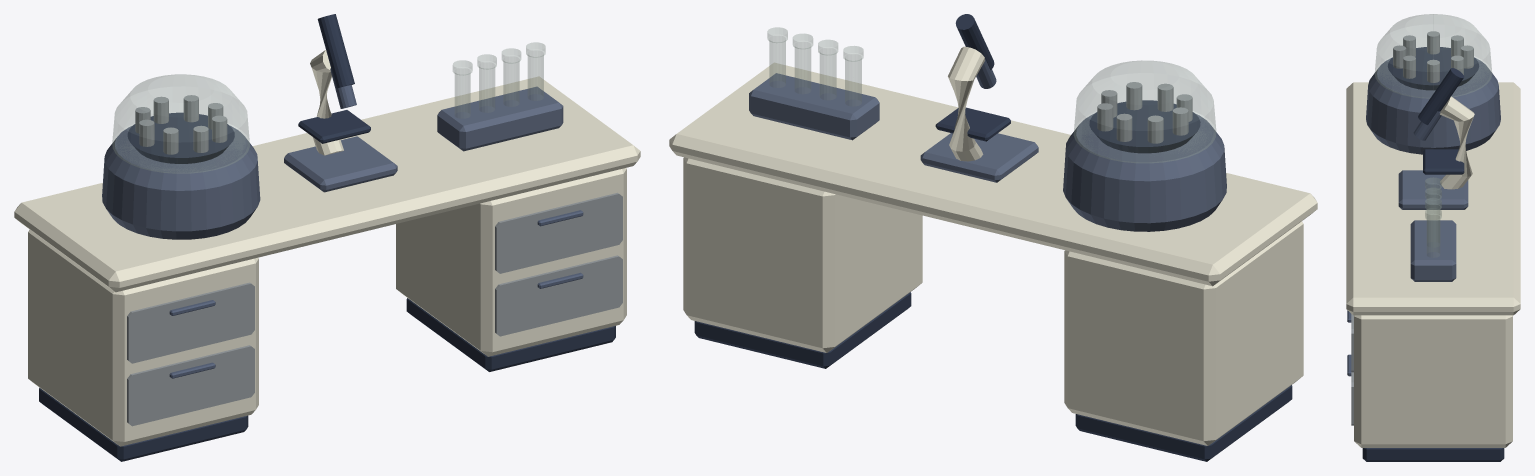
The model's file is bw_lab_analyzer_bench.glb.
3 views of the same model, side by side, from view 1: azimuth 30°, elevation 25°; view 2: azimuth 150°, elevation 25°; view 3: azimuth 270°, elevation 25° (orthographic). The views are drawn at different scales.
Parts seen in each view (by area): view 1: cabinet, ampoule, centrifuge, dust_cover, ocular, objective; view 2: cabinet, centrifuge, dust_cover, ocular, ampoule; view 3: cabinet, centrifuge, dust_cover, ocular, ampoule, objective.
Boxes of the visible parts, <box> form: cabinet: <box>14,50,640,446</box>; ampoule: <box>127,95,622,426</box>; centrifuge: <box>102,86,563,239</box>; dust_cover: <box>112,42,545,173</box>; ocular: <box>39,14,615,461</box>; objective: <box>169,68,583,378</box>; cabinet: <box>669,46,1317,445</box>; centrifuge: <box>749,73,1226,231</box>; dust_cover: <box>767,27,1215,162</box>; ocular: <box>694,14,1292,461</box>; ampoule: <box>1097,82,1192,143</box>; cabinet: <box>1346,82,1520,447</box>; centrifuge: <box>1366,57,1500,281</box>; dust_cover: <box>1375,14,1491,257</box>; ocular: <box>1362,47,1504,461</box>; ampoule: <box>1351,31,1473,425</box>; objective: <box>1347,111,1441,376</box>.
Size of the model in its own units: 2.4 by 1.5 by 0.8.
